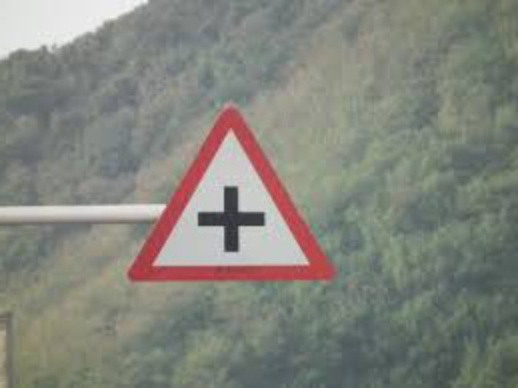Fork_road: (125, 99, 338, 282)
